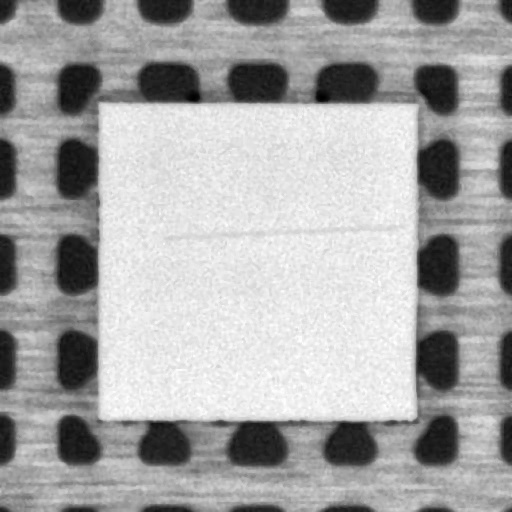DIE_CRACK: (165, 226, 401, 237)
